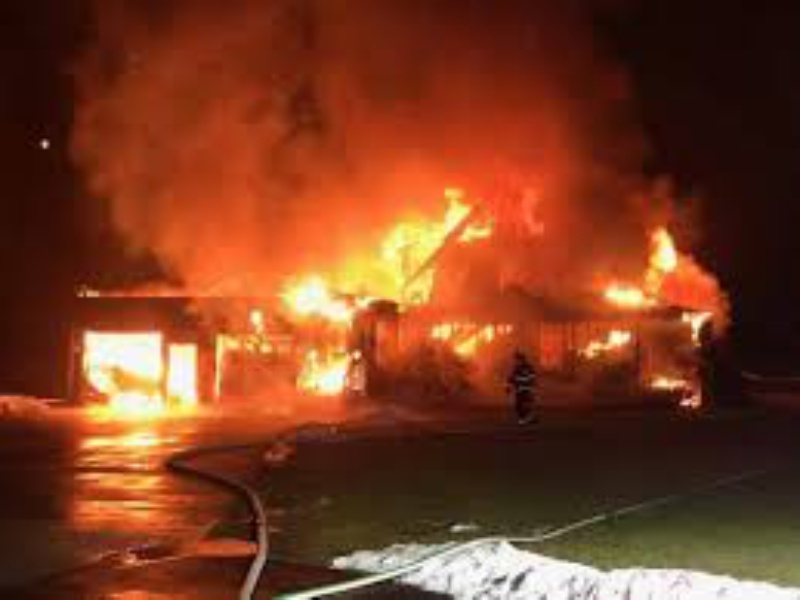fire: (365, 188, 489, 250), (84, 332, 162, 413), (639, 214, 698, 287), (271, 278, 359, 325), (291, 334, 351, 400), (361, 251, 429, 300), (599, 271, 656, 309), (578, 320, 635, 356), (169, 346, 200, 408), (648, 370, 698, 390)
